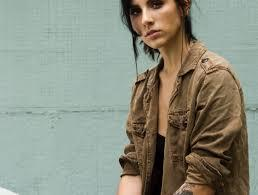Persons: (115, 0, 195, 53)
